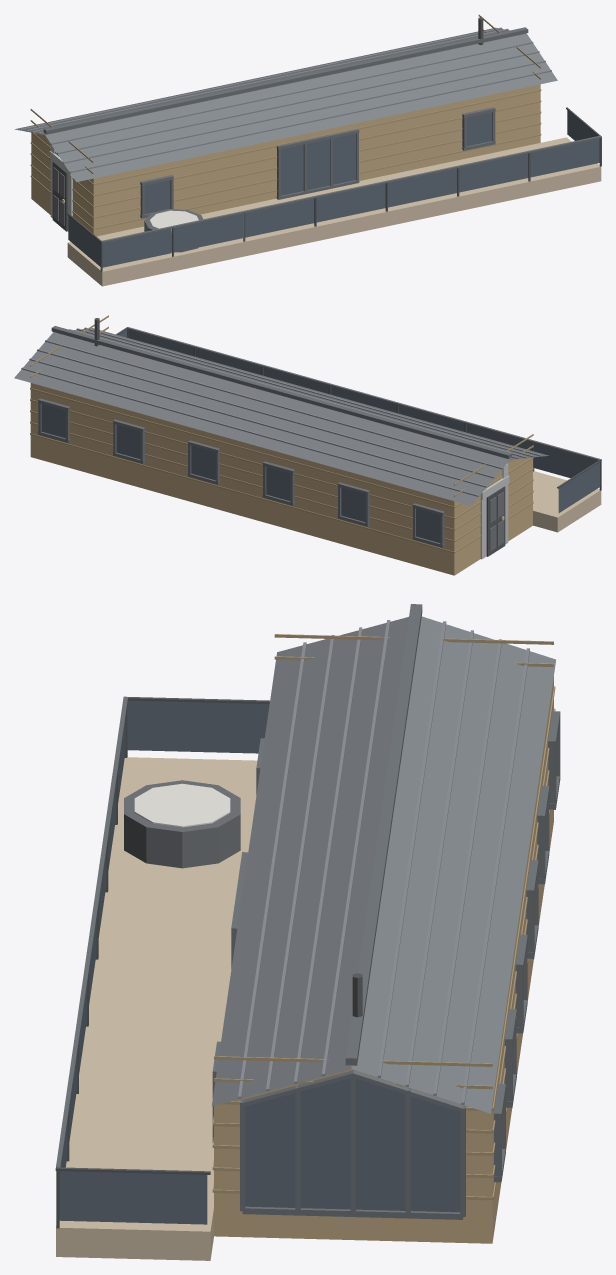
The picture shows the model from 3 angles, top to bottom: view 1: azimuth 30°, elevation 25°; view 2: azimuth 150°, elevation 25°; view 3: azimuth 270°, elevation 25°; orthographic projection. The views are drawn at different scales.
Visible parts, largest first — view 1: slate, door_wood, larch, slate_dk, slate_lt, door_wood_p, window_glass_001, window_glass_003, window_glass_004, window_glass_006, window_glass_007, window_glass_005 (+13 smaller); view 2: slate, door_wood, slate_dk, slate_lt, door_wood_p, larch, window_glass_001, window_glass_008, stone_band, window_glass_016, window_glass_021, window_glass_017 (+12 smaller); view 3: slate, larch, window_glass_015, slate_dk, slate_lt, door_wood, window_glass_009, window_glass_008, band_dark, door_wood_p, string, pipe.
Boxes of the visible parts, x1,y1,x2,y2 form: slate: (15, 27, 557, 181); door_wood: (31, 84, 540, 236); larch: (67, 137, 601, 286); slate_dk: (43, 27, 601, 242); slate_lt: (20, 27, 551, 172); door_wood_p: (30, 14, 541, 229); window_glass_001: (102, 228, 171, 267); window_glass_003: (245, 198, 314, 237); window_glass_004: (316, 183, 385, 222); window_glass_006: (459, 153, 528, 192); window_glass_007: (530, 138, 599, 177); window_glass_005: (388, 168, 456, 207); slate: (14, 328, 548, 505); door_wood: (30, 383, 532, 575); slate_dk: (38, 326, 601, 547); slate_lt: (21, 327, 542, 496); door_wood_p: (30, 315, 533, 553); larch: (533, 471, 601, 532); window_glass_001: (534, 443, 597, 478); window_glass_008: (558, 462, 600, 512); stone_band: (480, 463, 509, 559); window_glass_016: (41, 404, 65, 438); window_glass_021: (416, 508, 440, 542); window_glass_017: (116, 425, 140, 459); slate: (212, 616, 555, 1113); larch: (56, 757, 257, 1260); window_glass_015: (245, 1078, 460, 1212); slate_dk: (56, 604, 560, 1219); slate_lt: (238, 620, 529, 1104); door_wood: (214, 676, 553, 1243); window_glass_009: (59, 1171, 207, 1224); window_glass_008: (127, 700, 269, 753); band_dark: (124, 780, 240, 868); door_wood_p: (212, 634, 555, 1200); string: (134, 783, 230, 827); pipe: (55, 696, 362, 1228).
Bounding box in the file's own units: 17.44 × 4.05 × 7.81.
